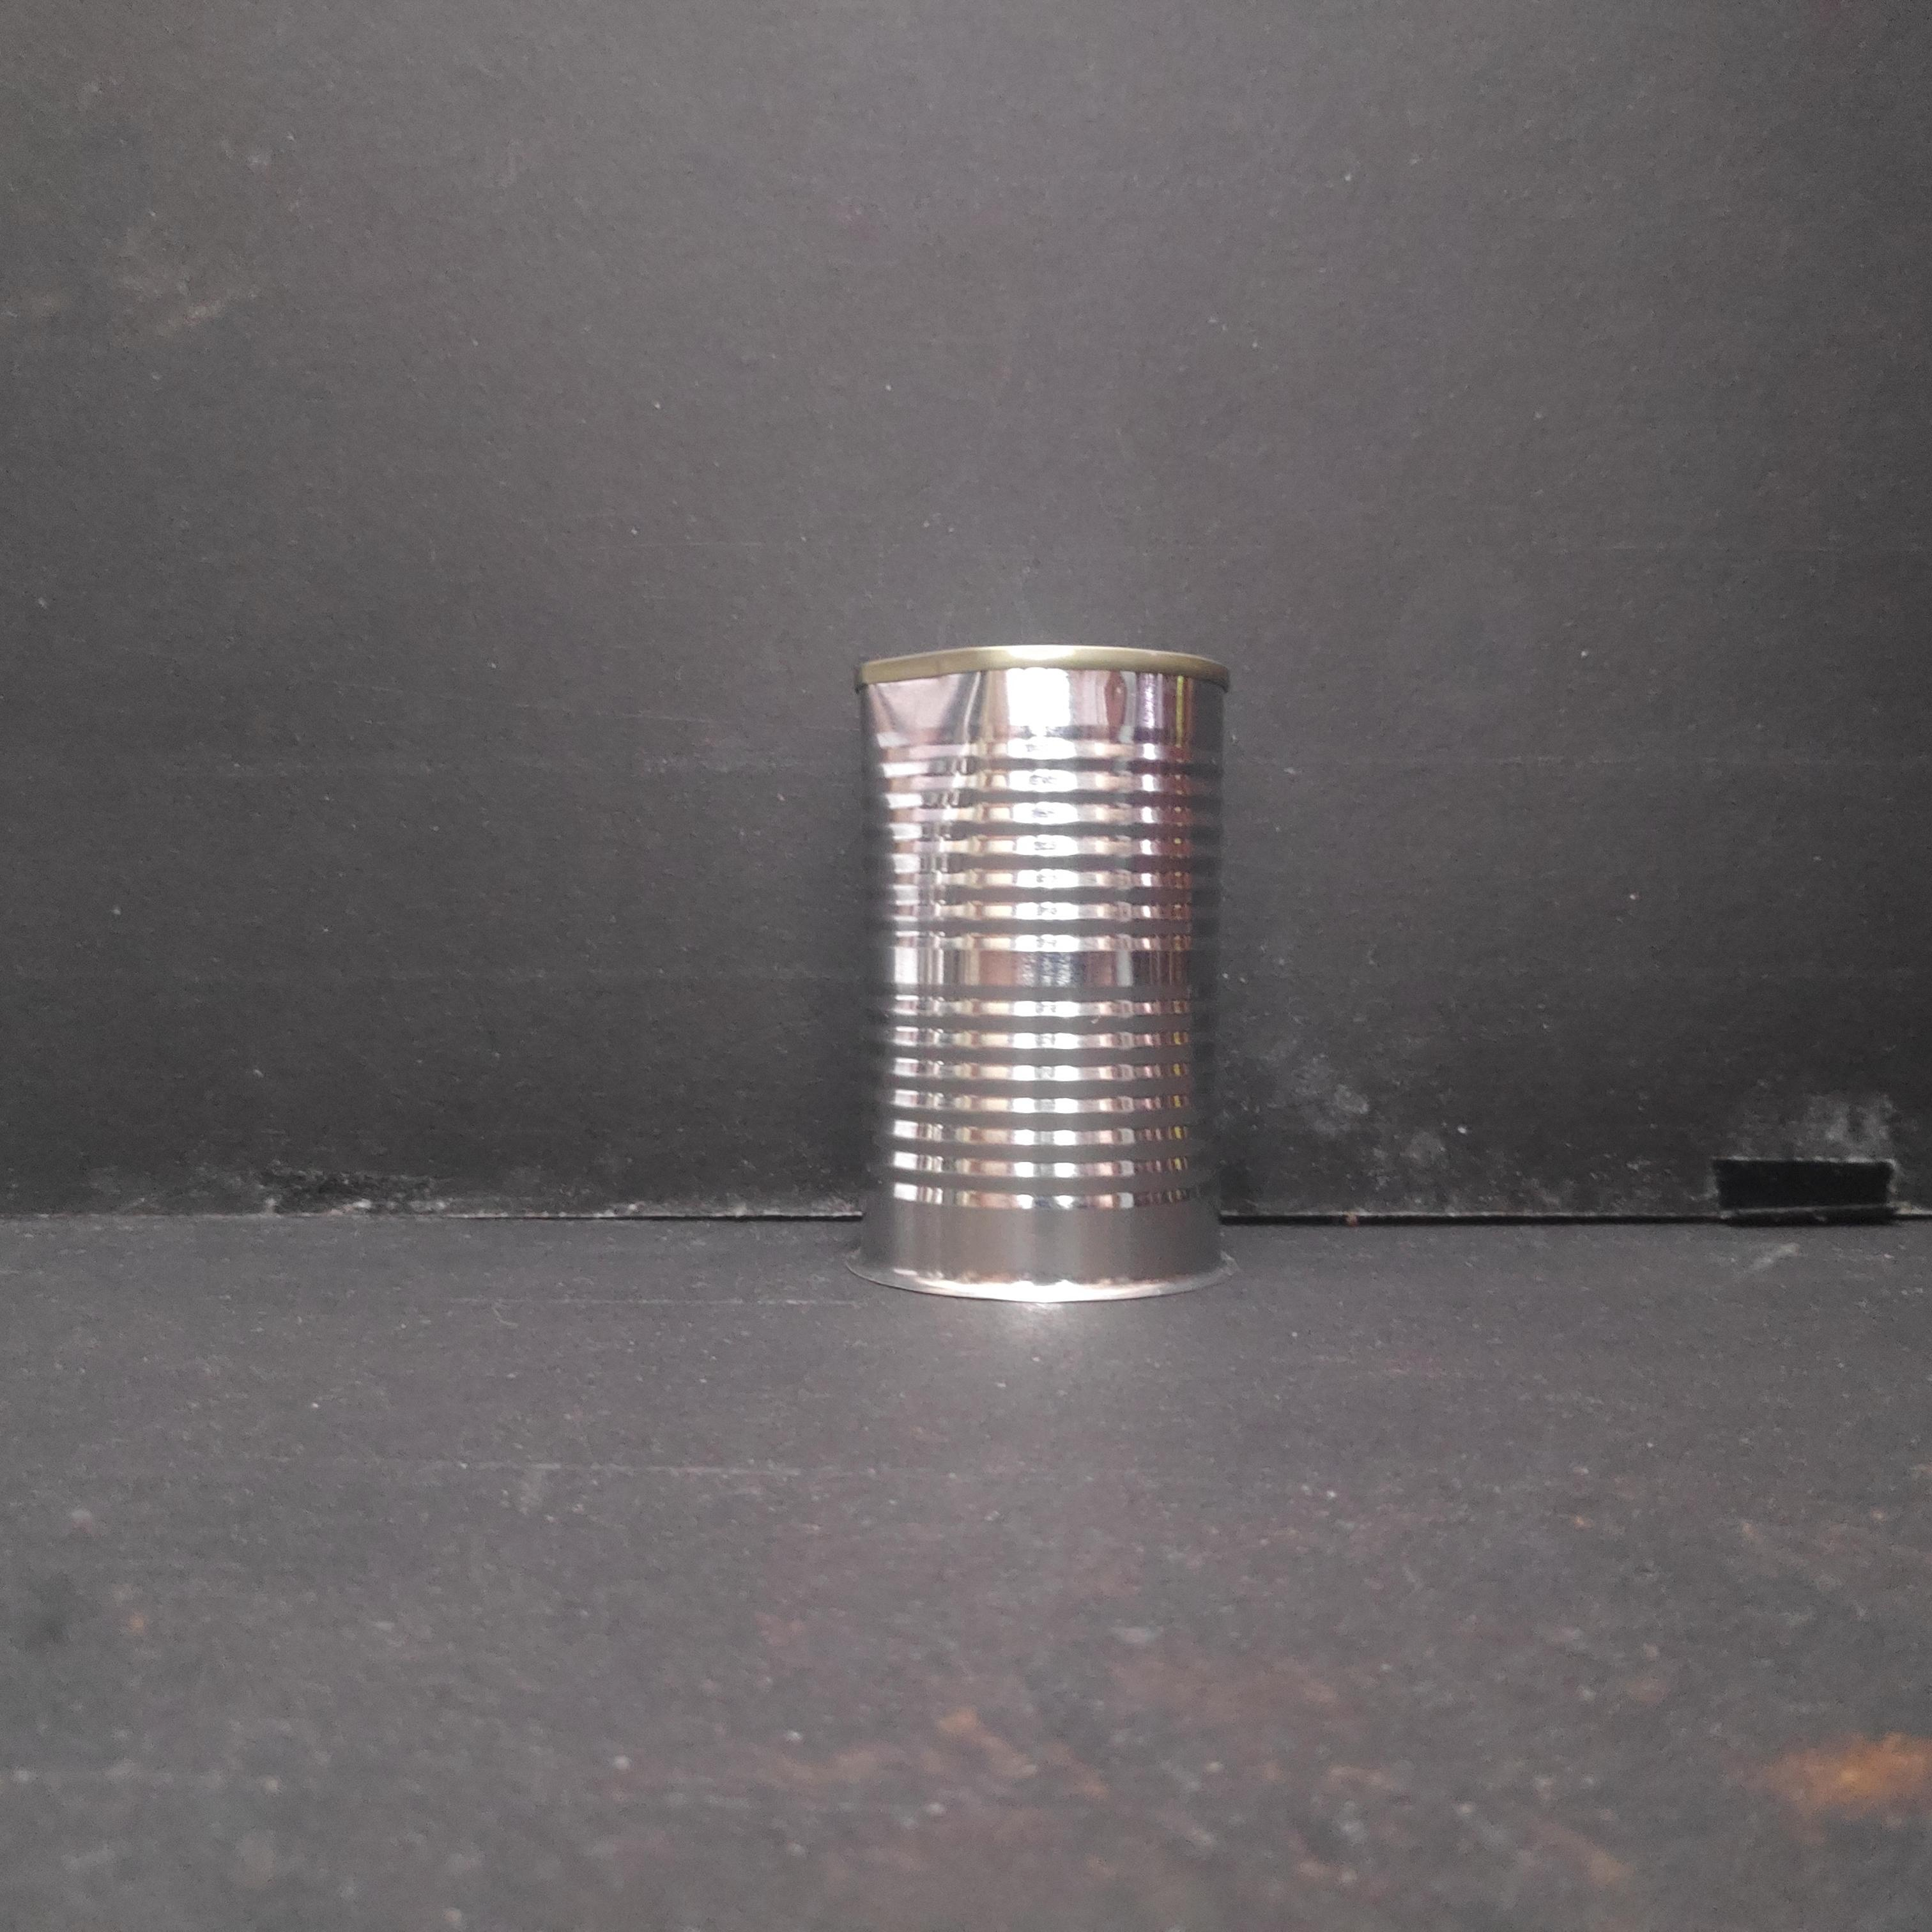Minor Defect: (844, 637, 1237, 1320)
